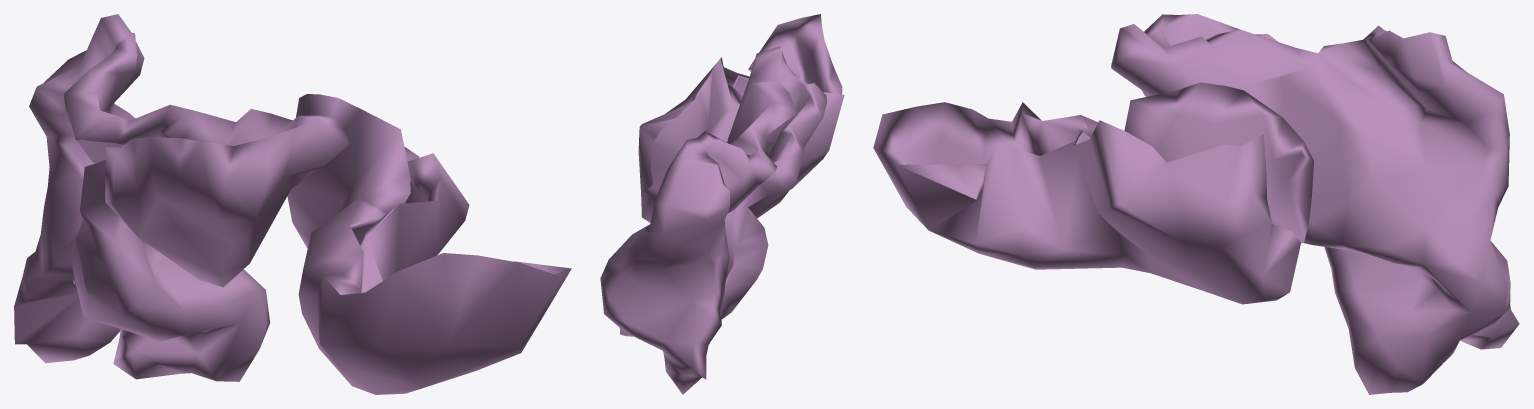
The picture shows the model from 3 angles, left to right: view 1: azimuth 30°, elevation 25°; view 2: azimuth 150°, elevation 25°; view 3: azimuth 270°, elevation 25°; orthographic projection. The views are drawn at different scales.
Visible parts, largest first — view 1: 左侧顶枕沟; view 2: 左侧顶枕沟; view 3: 左侧顶枕沟.
Boxes of the visible parts, bbox=[...] form: 左侧顶枕沟: bbox=[14, 14, 571, 394]; 左侧顶枕沟: bbox=[600, 14, 844, 394]; 左侧顶枕沟: bbox=[873, 14, 1519, 394].
Bounding box in the file's own units: 0.0331 × 0.044 × 0.0747.
